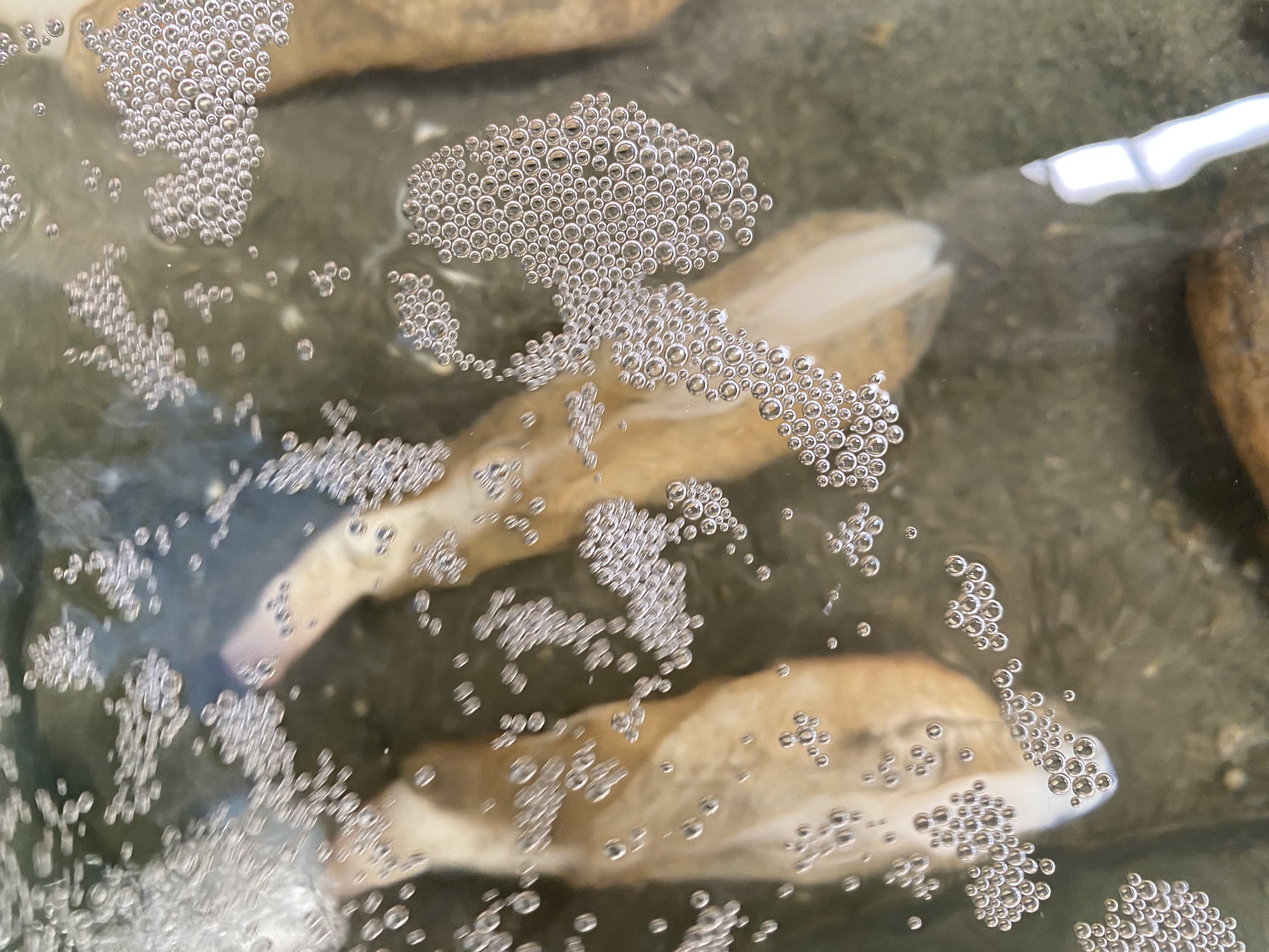Healthy: (220, 353, 792, 686), (373, 654, 1069, 884), (693, 213, 945, 390)
